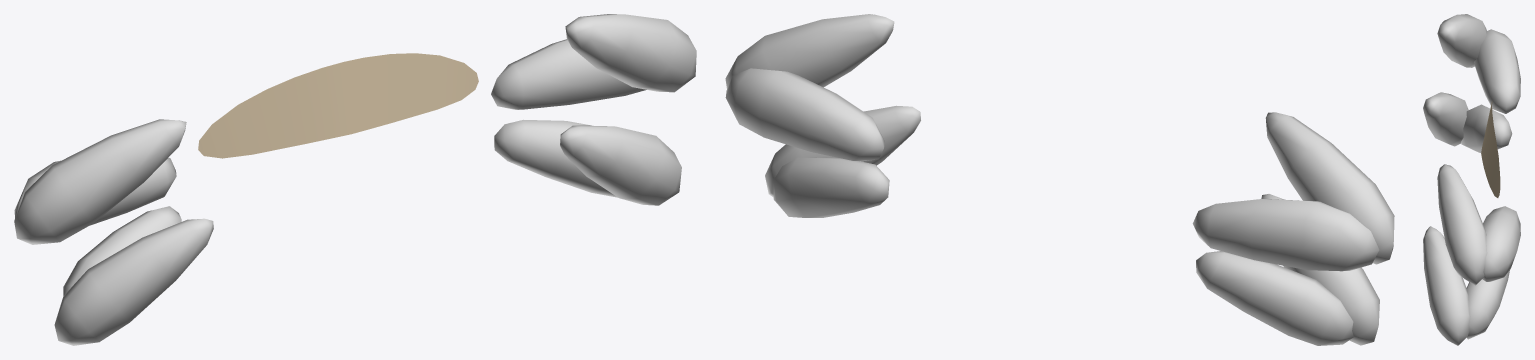
Rendered from S12_Bug04_L2_Mouth.glb.
3 renders of one model, left to right at view 1: azimuth 30°, elevation 25°; view 2: azimuth 150°, elevation 25°; view 3: azimuth 270°, elevation 25°, orthographic. The views are drawn at different scales.
Parts seen in each view (by area): view 1: S12_Bug04_L2_Mouth__Mouth_M__surface0__lod0; view 2: S12_Bug04_L2_Mouth__Mouth_M__surface0__lod0; view 3: S12_Bug04_L2_Mouth__Mouth_M__surface0__lod0.
Part boxes in pixels (x1,y1,x2,y2): S12_Bug04_L2_Mouth__Mouth_M__surface0__lod0: (14, 14, 696, 345); S12_Bug04_L2_Mouth__Mouth_M__surface0__lod0: (725, 14, 1394, 345); S12_Bug04_L2_Mouth__Mouth_M__surface0__lod0: (1423, 14, 1520, 345).
Bounding box in the file's own units: 65.31 × 19.17 × 11.44.
